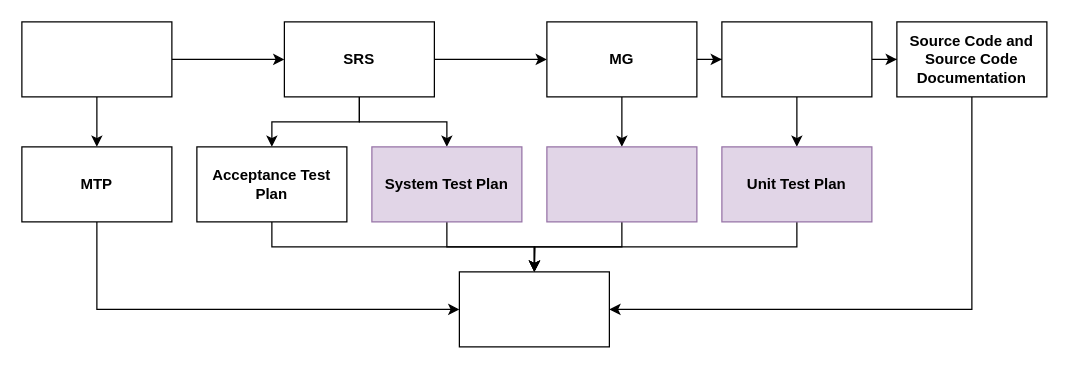
Some shapes in this 1069 by 369 pixel diagram are drawn without their labels. Each missing label, with the centre of its shape:
"Concept" belongs at (x=96, y=59).
"Integration Test Plan" belongs at (x=621, y=184).
"MIS" belongs at (x=796, y=59).
"Test Reports" belongs at (x=533, y=309).
